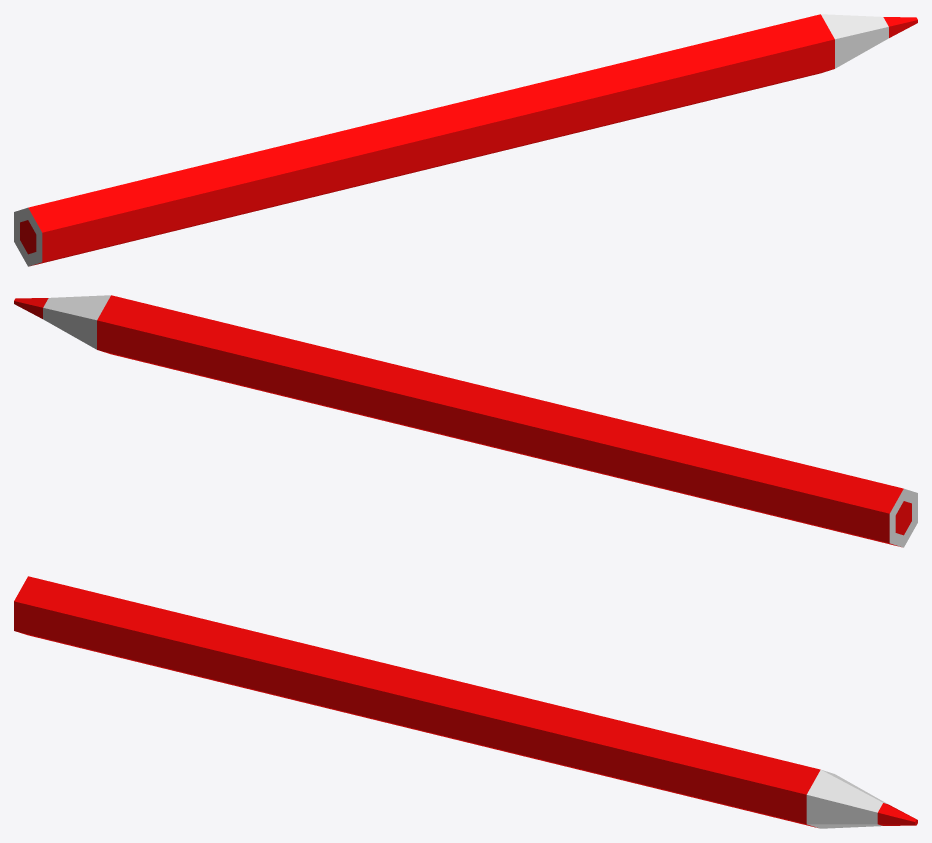
The model's file is Pencil_Colored_01.fbx.
3 views of the same model, one above another, from view 1: azimuth 30°, elevation 25°; view 2: azimuth 150°, elevation 25°; view 3: azimuth 330°, elevation 25° (orthographic).
Parts seen in each view (by area): view 1: Pencil_Colored_01; view 2: Pencil_Colored_01; view 3: Pencil_Colored_01.
Part boxes in pixels (x1,y1,x2,y2): Pencil_Colored_01: (14,14,917,266); Pencil_Colored_01: (14,295,917,547); Pencil_Colored_01: (14,576,917,828).
Size of the model in its own units: 18.27 by 1.16 by 1.01.
